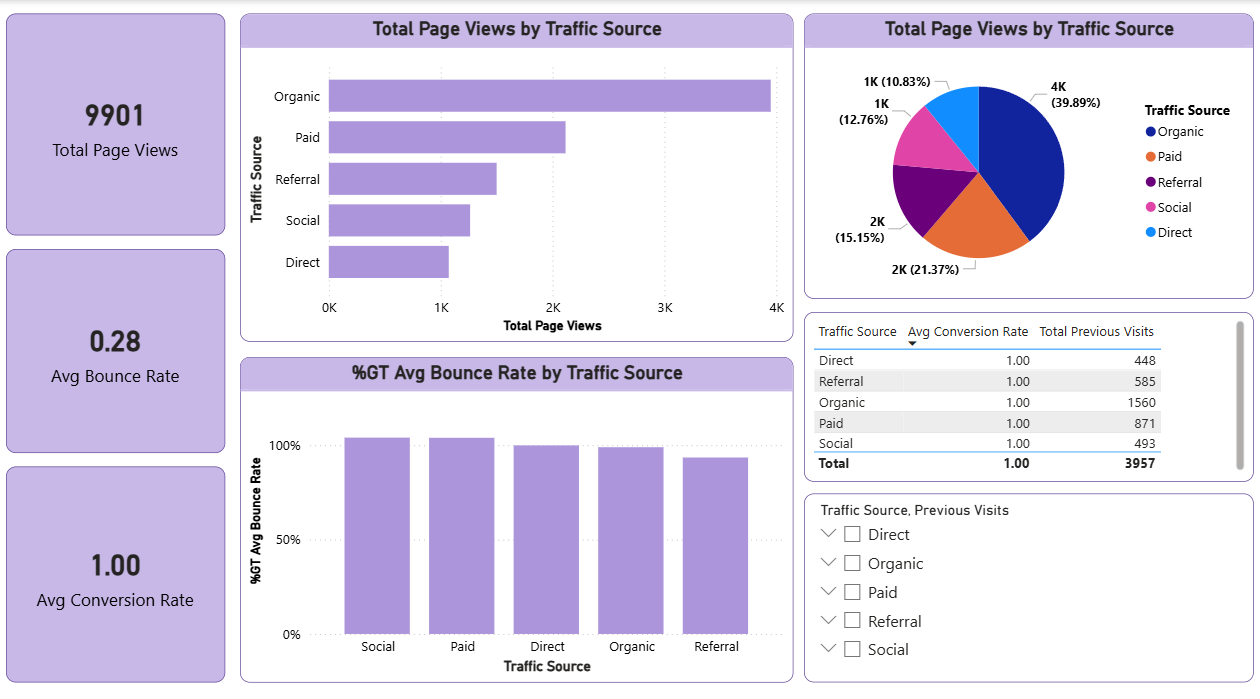

The page's visual inventory and layout, read from the dashboard file:
{"tool":"powerbi","page":{"name":"Page 1","canvas":[1280,720],"ordinal":0},"visuals":[{"type":"card","fields":{"Values":["website_traffic.Total Page Views"]},"box":[9.1,13.6,221.1,224.1],"z":0},{"type":"card","fields":{"Values":["website_traffic.Avg Bounce Rate"]},"box":[9.1,251.4,221.1,205.9],"z":1},{"type":"card","fields":{"Values":["website_traffic.Avg Conversion Rate"]},"box":[9.1,470.9,221.1,218],"z":2},{"type":"clusteredBarChart","fields":{"Category":["website_traffic.Traffic Source"],"Y":["website_traffic.Total Page Views"]},"box":[245.3,13.6,558.7,331.6],"z":3},{"type":"clusteredColumnChart","fields":{"Category":["website_traffic.Traffic Source"],"Y":["website_traffic.Avg Bounce Rate"]},"box":[245.3,360.4,558.7,328.6],"z":4},{"type":"pieChart","fields":{"Category":["website_traffic.Traffic Source"],"Y":["website_traffic.Total Page Views"]},"box":[814.6,13.6,454.3,287.7],"z":5},{"type":"tableEx","fields":{"Values":["website_traffic.Traffic Source","website_traffic.Avg Conversion Rate","website_traffic.Total Previous Visits"]},"box":[814.6,315,454.3,171.1],"z":6},{"type":"slicer","fields":{"Values":["website_traffic.Traffic Source","website_traffic.Previous Visits"]},"box":[814.6,498.2,454.3,190.8],"z":7}]}

Visuals, with their boxes in screenshot pixels (x1, y1, x2, y2), scaled from the page's 1280x720 canvas onto the 1260x699 screenshot:
card - website_traffic.Total Page Views: region(9, 13, 227, 231)
card - website_traffic.Avg Bounce Rate: region(9, 244, 227, 444)
card - website_traffic.Avg Conversion Rate: region(9, 457, 227, 669)
clusteredBarChart - website_traffic.Traffic Source x website_traffic.Total Page Views: region(241, 13, 791, 335)
clusteredColumnChart - website_traffic.Traffic Source x website_traffic.Avg Bounce Rate: region(241, 350, 791, 669)
pieChart - website_traffic.Traffic Source x website_traffic.Total Page Views: region(802, 13, 1249, 293)
tableEx - website_traffic.Traffic Source x website_traffic.Avg Conversion Rate: region(802, 306, 1249, 472)
slicer - website_traffic.Traffic Source x website_traffic.Previous Visits: region(802, 484, 1249, 669)
